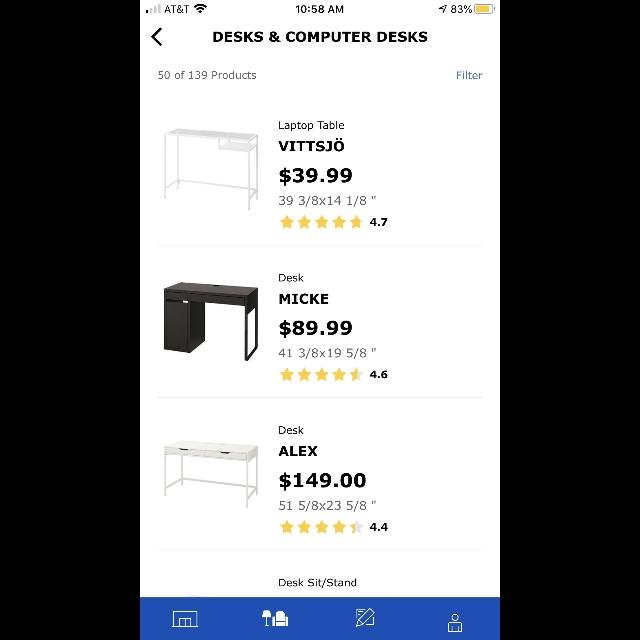icon: (280, 520, 364, 534), (280, 367, 364, 381), (280, 215, 364, 229), (356, 608, 374, 628), (448, 614, 462, 632), (152, 28, 162, 46)
image: (164, 128, 258, 210), (164, 282, 258, 362), (164, 439, 258, 508), (262, 610, 288, 626), (173, 612, 199, 626)
text: (213, 32, 427, 42), (280, 473, 366, 491), (280, 320, 352, 338), (280, 168, 352, 186), (278, 348, 376, 359), (280, 501, 376, 512), (280, 196, 376, 207), (278, 138, 344, 152), (158, 71, 255, 79), (280, 578, 356, 588), (280, 122, 344, 132), (280, 294, 328, 304), (278, 446, 318, 456), (457, 72, 483, 80), (280, 426, 304, 434), (280, 274, 304, 282), (370, 523, 388, 531), (370, 371, 388, 379), (370, 218, 388, 226)
uppertaskbar: (140, 0, 500, 14)
